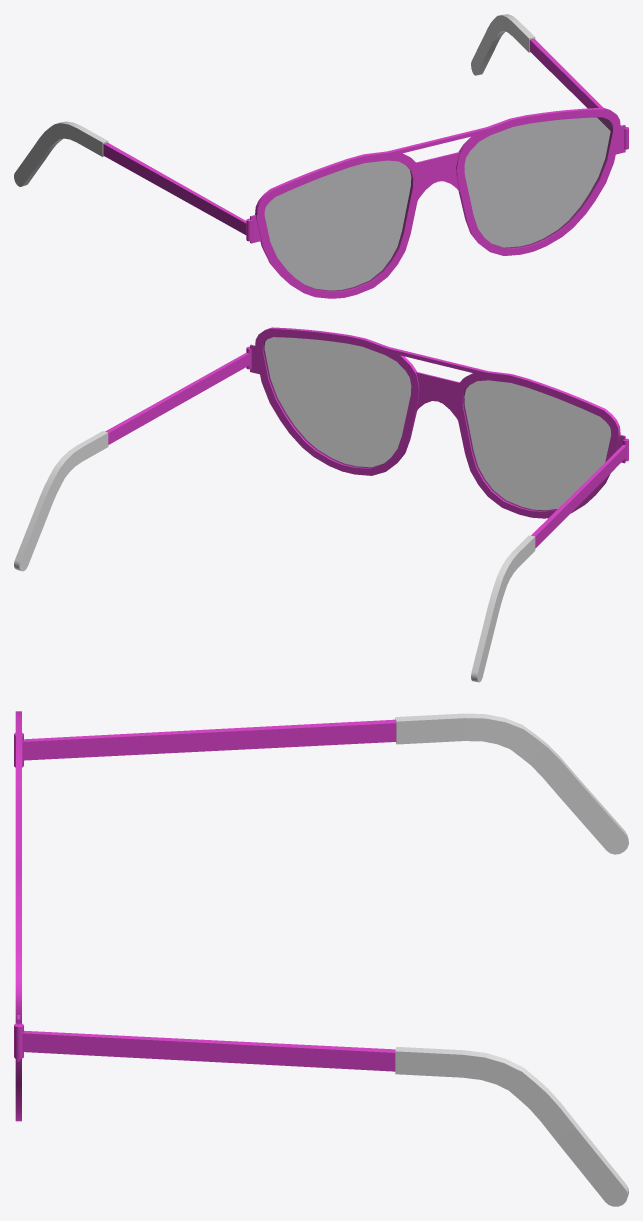
3 views of the same model, one above another, from view 1: azimuth 30°, elevation 25°; view 2: azimuth 150°, elevation 25°; view 3: azimuth 270°, elevation 25° (orthographic). The views are drawn at different scales.
Parts seen in each view (by area): view 1: Lens, Material.018, black; view 2: Lens, Material.018, black; view 3: Material.018, black.
Part boxes in pixels (left/top/right/bottom): Lens: left=264, top=117, right=612, bottom=291; Material.018: left=103, top=38, right=628, bottom=298; black: left=14, top=14, right=535, bottom=186; Lens: left=263, top=337, right=610, bottom=511; Material.018: left=105, top=327, right=628, bottom=548; black: left=14, top=431, right=535, bottom=682; Material.018: left=14, top=711, right=396, bottom=1121; black: left=395, top=713, right=628, bottom=1206.
Bounding box in the file's own units: 2.02 × 0.5718 × 1.47.
